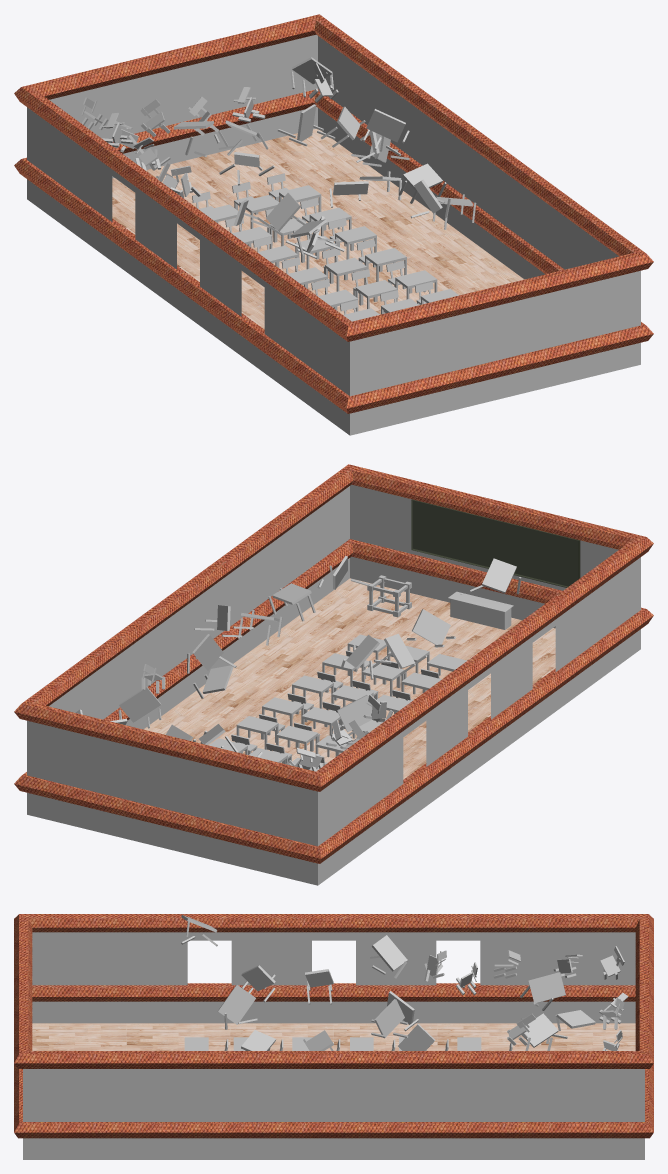
3 renders of one model, top to bottom at view 1: azimuth 30°, elevation 25°; view 2: azimuth 150°, elevation 25°; view 3: azimuth 270°, elevation 25°, orthographic. The views are drawn at different scales.
Parts seen in each view (by area): view 1: 教室空間, 屋頂裝飾, 地面, 窗戶旁裝飾, 桌面, 椅子; view 2: 教室空間, 屋頂裝飾, 地面, 窗戶旁裝飾, 桌面, 黑板, 椅子, 講桌, 方塊; view 3: 教室空間, 屋頂裝飾, 窗戶旁裝飾, 地面, 桌面, 椅子.
Part boxes in pixels (x1,y1,x2,y2): 教室空間: (27, 34, 640, 435); 屋頂裝飾: (14, 14, 653, 341); 地面: (112, 128, 524, 329); 窗戶旁裝飾: (14, 89, 653, 413); 桌面: (127, 57, 476, 321); 椅子: (81, 63, 433, 314); 教室空間: (27, 484, 640, 885); 屋頂裝飾: (14, 464, 653, 791); 地面: (143, 578, 555, 779); 窗戶旁裝飾: (14, 539, 653, 863); 桌面: (75, 555, 521, 770); 黑板: (411, 499, 580, 587); 椅子: (141, 650, 441, 771); 講桌: (447, 591, 513, 629); 方塊: (367, 575, 411, 617); 教室空間: (23, 932, 644, 1159); 屋頂裝飾: (14, 914, 653, 1068); 窗戶旁裝飾: (14, 983, 653, 1138); 地面: (32, 1023, 635, 1050); 桌面: (181, 915, 595, 1050); 椅子: (224, 946, 628, 1050).
Size of the model in its own units: 747 by 322 by 1399.
